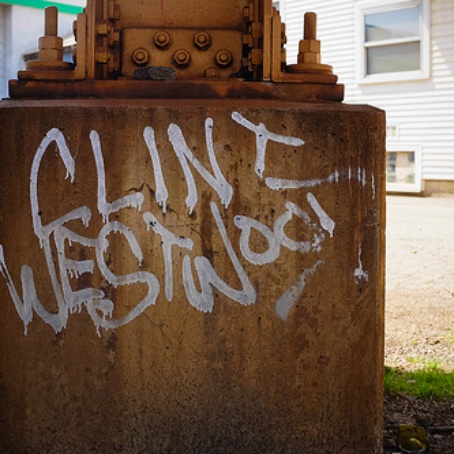building: (285, 1, 454, 194)
graffiti: (1, 109, 372, 380)
